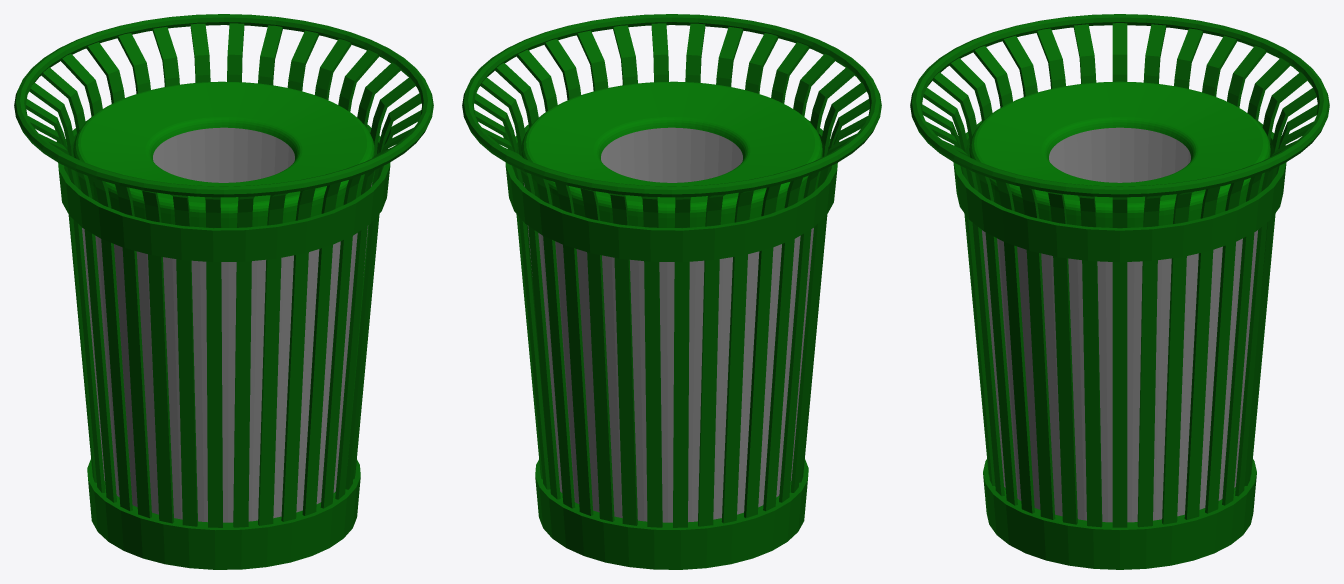
File: park-trashcan.obj
3 renders of one model, left to right at view 1: azimuth 30°, elevation 25°; view 2: azimuth 150°, elevation 25°; view 3: azimuth 270°, elevation 25°, orthographic.
Visible parts, largest first — view 1: trash_can_frame_Trash_can_frame_Green_paint, Trash_can_Trash_can_Aluminum, Trash_can_Trash_can_Green_plastic; view 2: trash_can_frame_Trash_can_frame_Green_paint, Trash_can_Trash_can_Aluminum, Trash_can_Trash_can_Green_plastic; view 3: trash_can_frame_Trash_can_frame_Green_paint, Trash_can_Trash_can_Aluminum, Trash_can_Trash_can_Green_plastic.
Boxes of the visible parts, x1=… form: trash_can_frame_Trash_can_frame_Green_paint: x1=14, y1=14, x2=433, y2=569; Trash_can_Trash_can_Aluminum: x1=82, y1=127, x2=372, y2=522; Trash_can_Trash_can_Green_plastic: x1=73, y1=81, x2=374, y2=227; trash_can_frame_Trash_can_frame_Green_paint: x1=462, y1=14, x2=881, y2=569; Trash_can_Trash_can_Aluminum: x1=523, y1=127, x2=813, y2=522; Trash_can_Trash_can_Green_plastic: x1=521, y1=81, x2=822, y2=227; trash_can_frame_Trash_can_frame_Green_paint: x1=910, y1=14, x2=1329, y2=569; Trash_can_Trash_can_Aluminum: x1=982, y1=127, x2=1257, y2=522; Trash_can_Trash_can_Green_plastic: x1=969, y1=81, x2=1270, y2=227.
Size of the model in its own units: 7.9 by 8.58 by 7.9.
